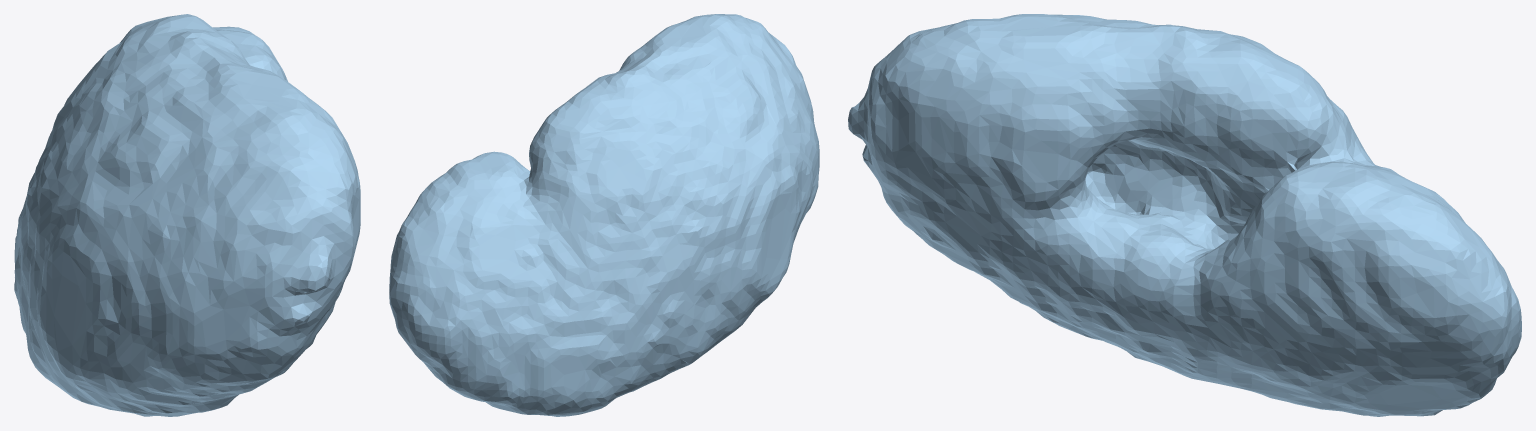
The picture shows the model from 3 angles, left to right: view 1: azimuth 30°, elevation 25°; view 2: azimuth 150°, elevation 25°; view 3: azimuth 270°, elevation 25°; orthographic projection. The views are drawn at different scales.
Parts seen in each view (by area): view 1: world; view 2: world; view 3: world.
Boxes of the visible parts, x1,y1,x2,y2 form: world: [14, 14, 360, 416]; world: [389, 14, 819, 416]; world: [848, 14, 1521, 416].
Bounding box in the file's own units: 0.5344 × 0.5658 × 0.9226.
